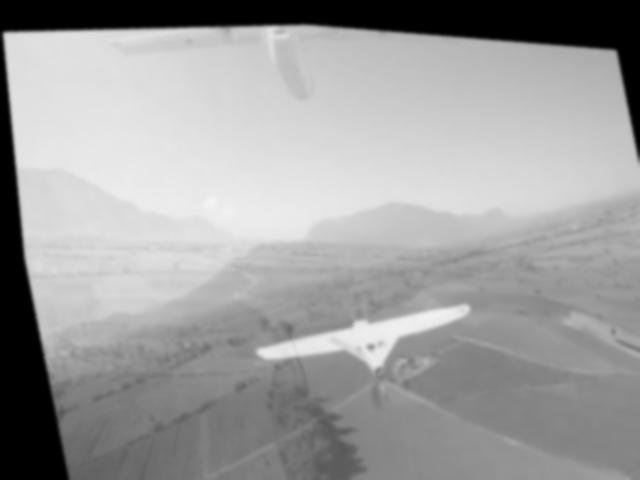hedef: (232, 256, 484, 407)
